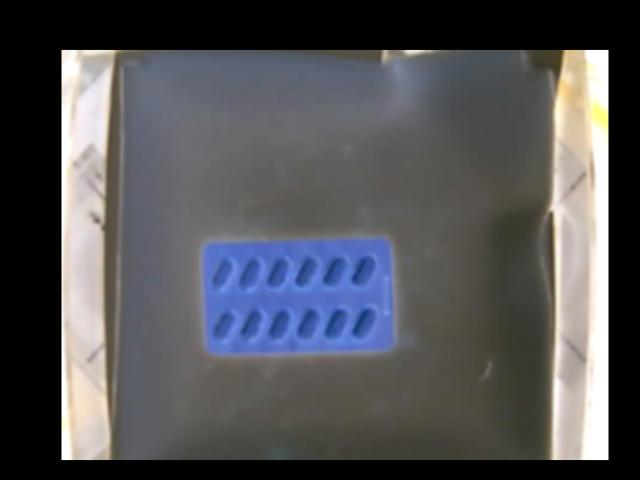Medicine: (200, 241, 393, 354)
